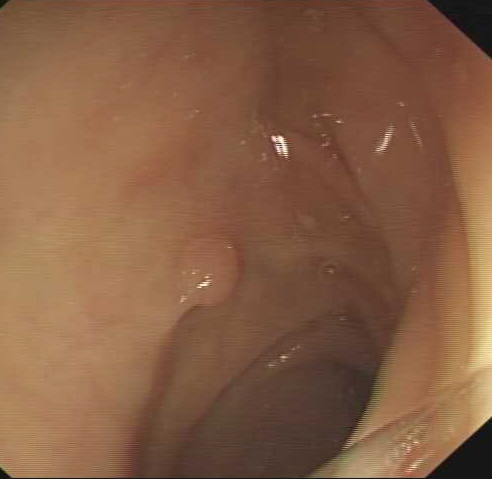others: (172, 233, 241, 310)
